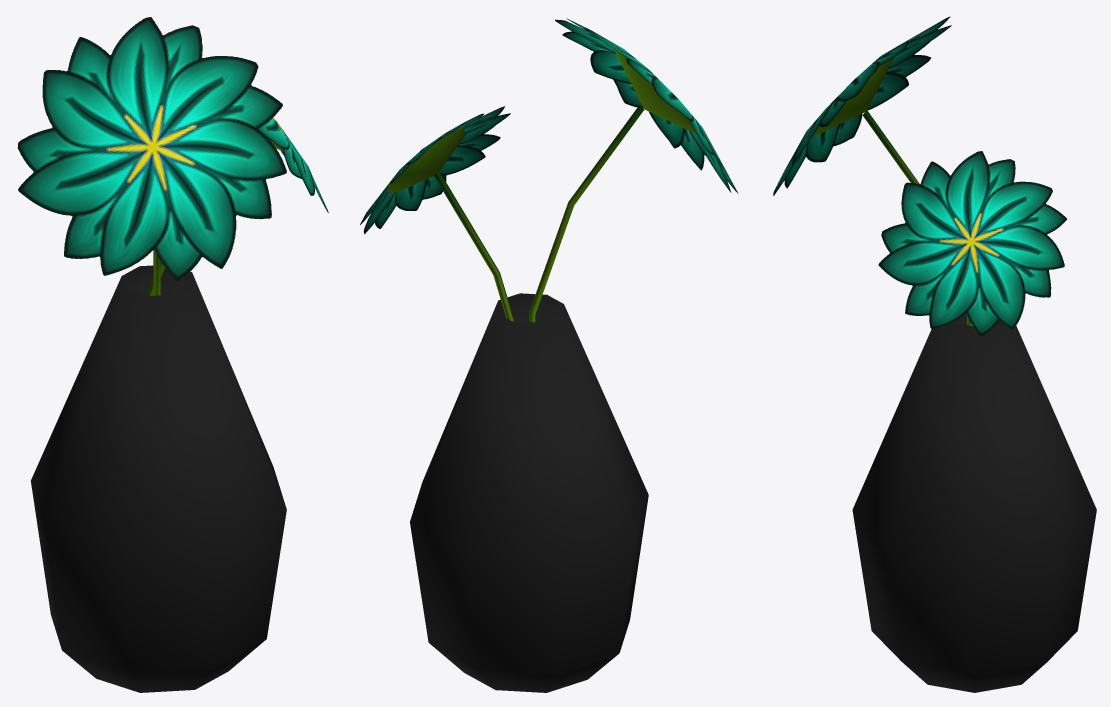
Rendered from Flowers_D_2.FBX.
3 views of the same model, side by side, from view 1: azimuth 30°, elevation 25°; view 2: azimuth 150°, elevation 25°; view 3: azimuth 270°, elevation 25° (orthographic). The views are drawn at different scales.
Visible parts, largest first — view 1: Vase_And_Flowers; view 2: Vase_And_Flowers; view 3: Vase_And_Flowers.
Part boxes in pixels (x1,y1,x2,y2): Vase_And_Flowers: (17,17,328,692); Vase_And_Flowers: (360,18,738,692); Vase_And_Flowers: (773,16,1096,692).
Bounding box in the file's own units: 80.48 × 155 × 73.7.
